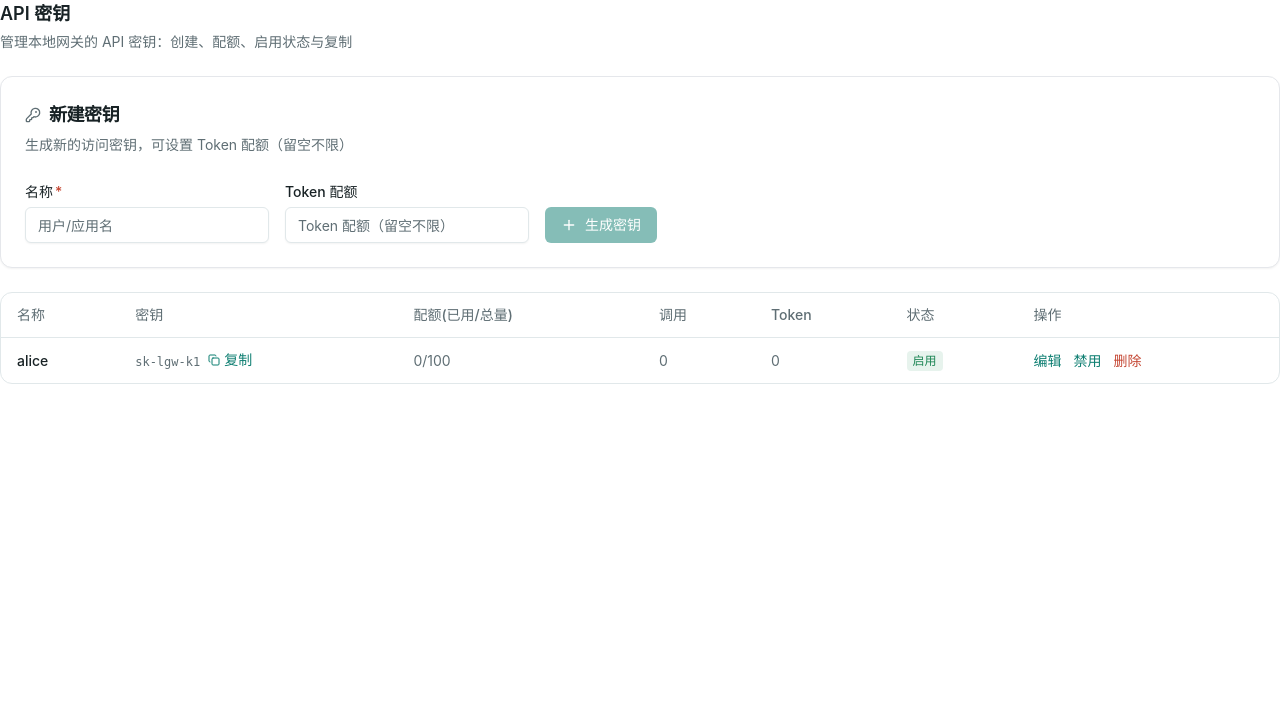
Scenario: ApiKeysPage 生成密钥 › 编辑对话框：清空名称失焦出现行内错误且应用禁用，补全后恢复
Check: the text "alice" is shown, box [1,338,119,383]
Click the button "编辑". click: (1048, 360)
box: [1034,350,1062,370]
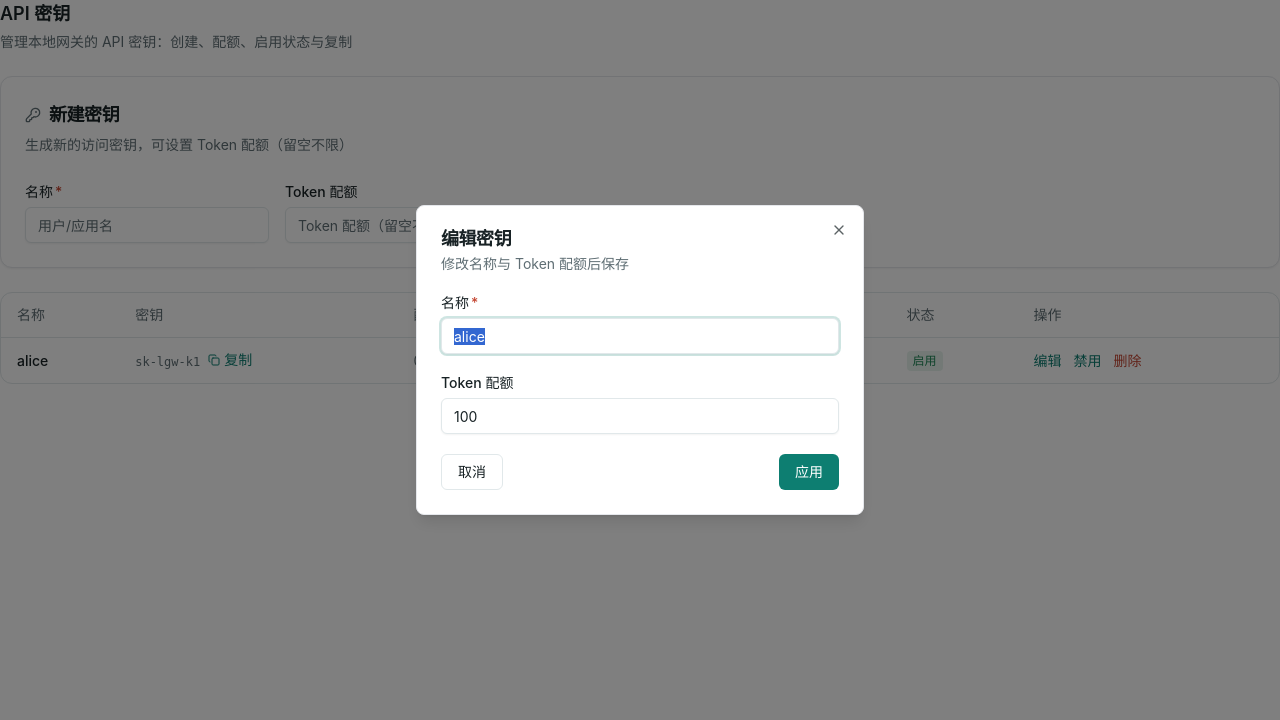
Check: the heading "编辑密钥" is shown, box [441,228,511,249]
Clear the field showing "alice". click: (640, 336)
box: [441,318,839,354]
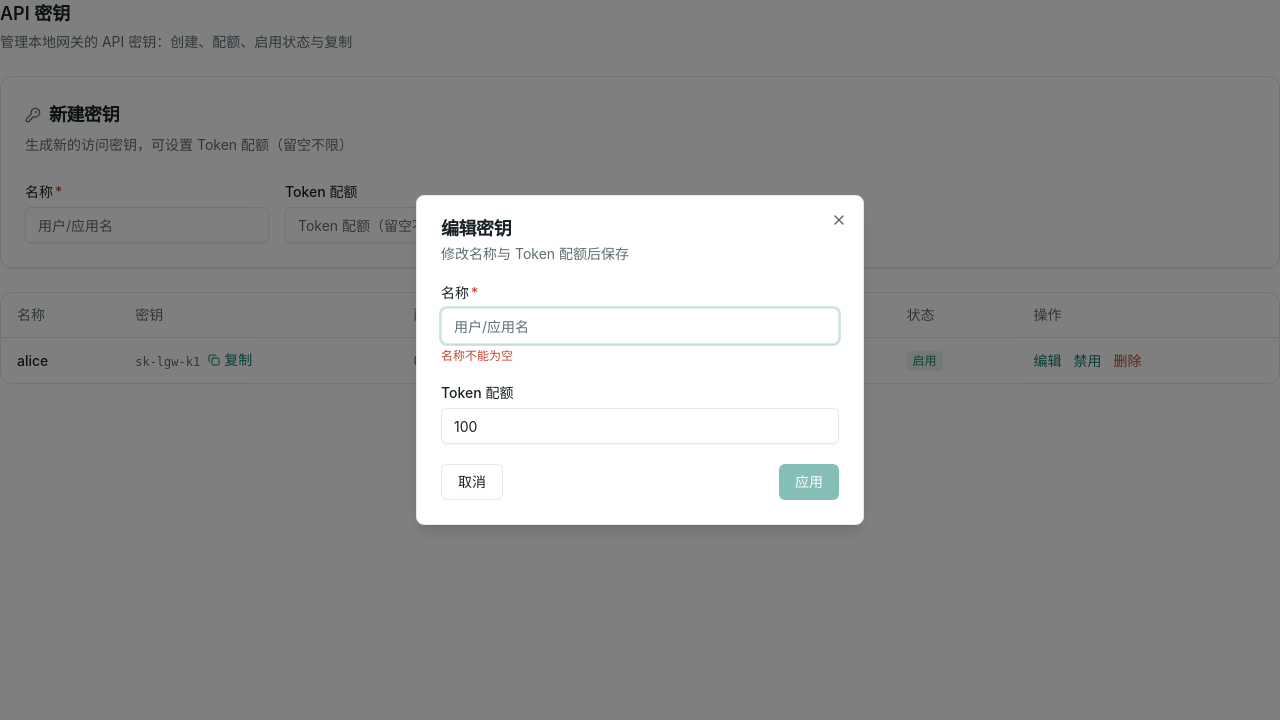
Check: the button "应用" is disabled, box [779,464,839,500]
Type "alice2" into the field showing "alice". click: (640, 326)
box: [441,308,839,344]
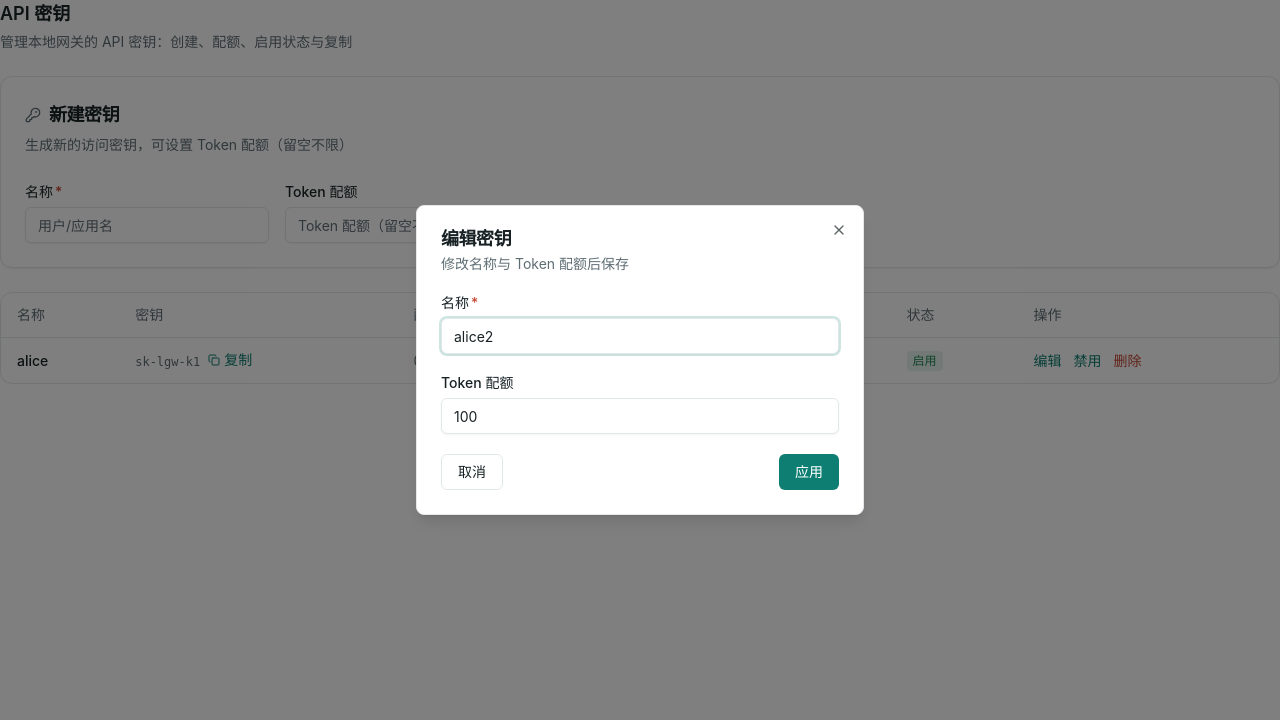
Check: the button "应用" is enabled, box [779,454,839,490]
Check: the message "名称不能为空" is gone
